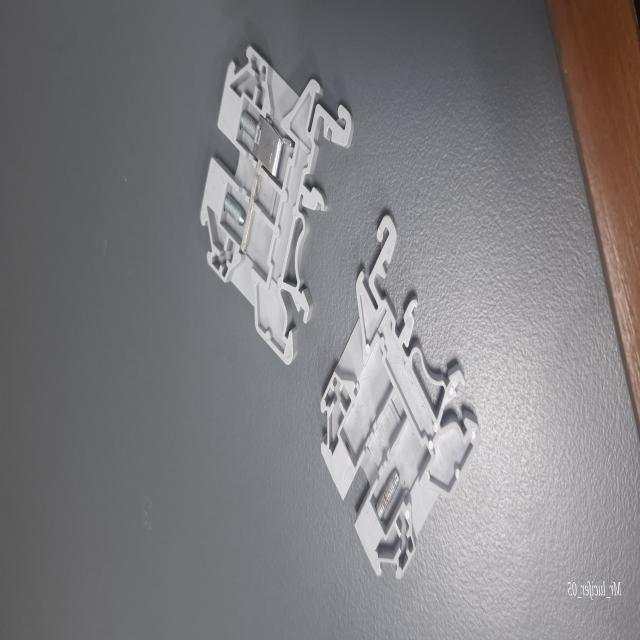Reject: (314, 208, 486, 586), (198, 39, 356, 374)
